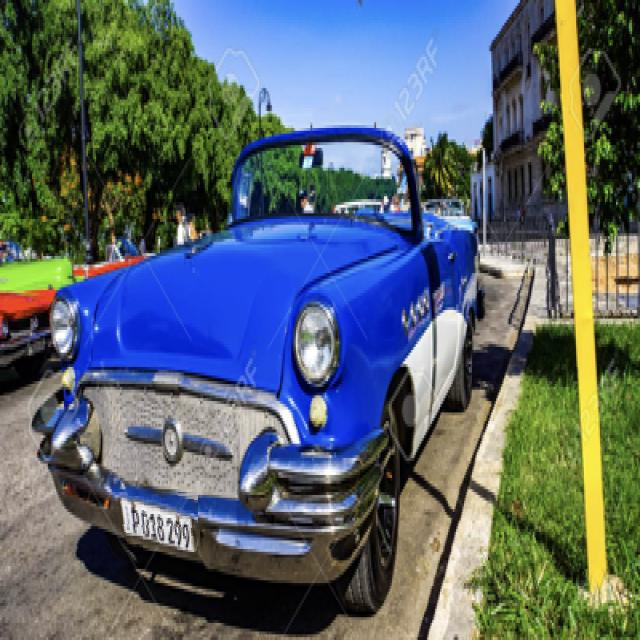licence: (118, 489, 198, 552)
